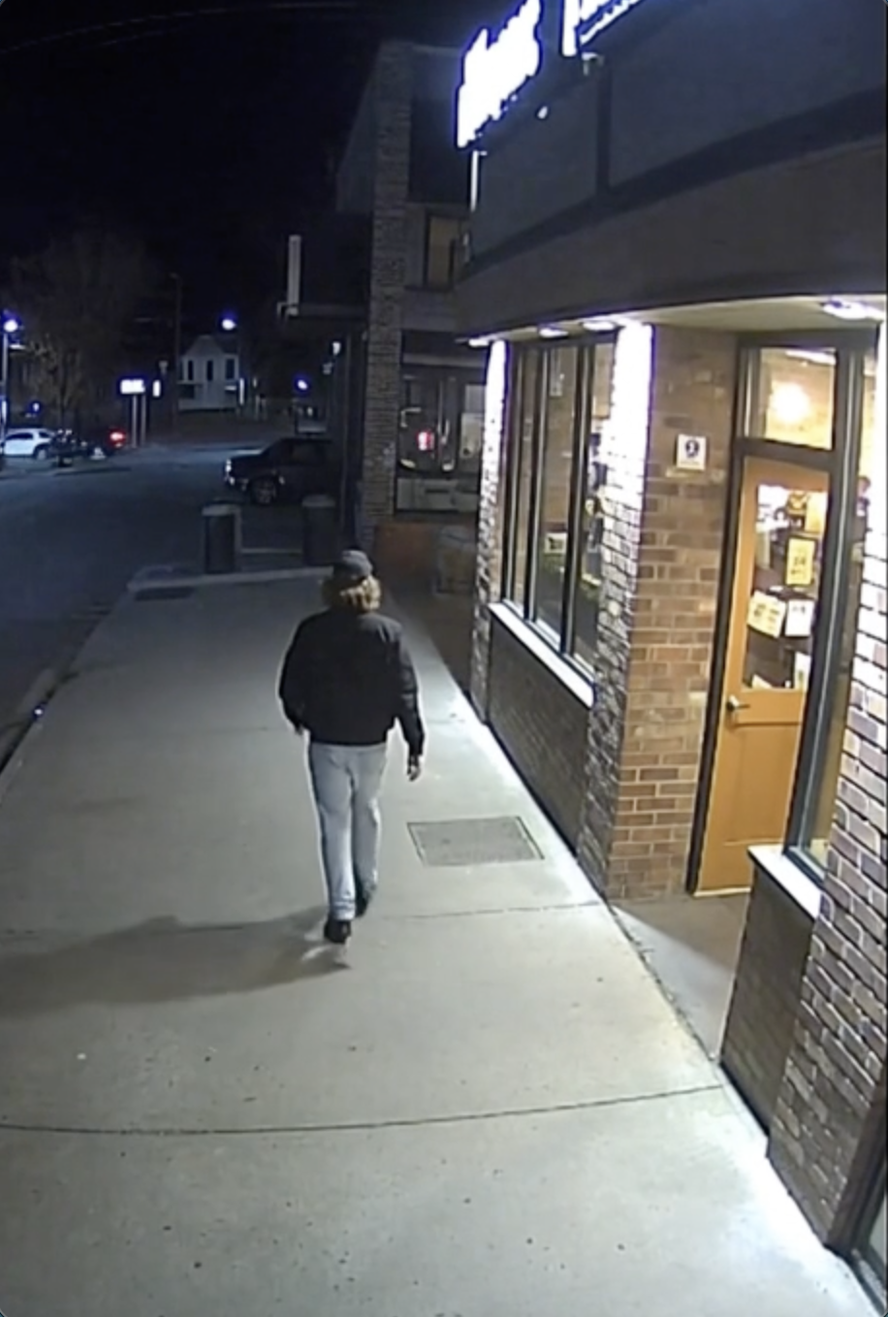Heavy Gun: (273, 555, 432, 948)
